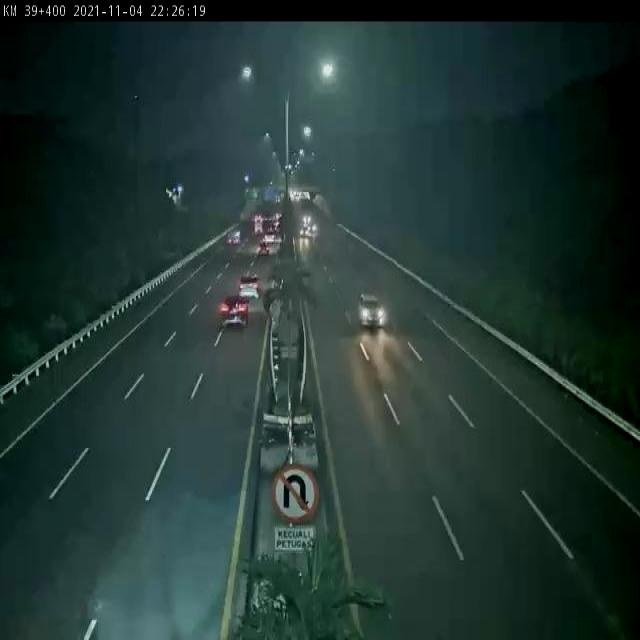Car: (221, 296, 249, 328), (359, 292, 383, 328), (237, 274, 260, 297)
